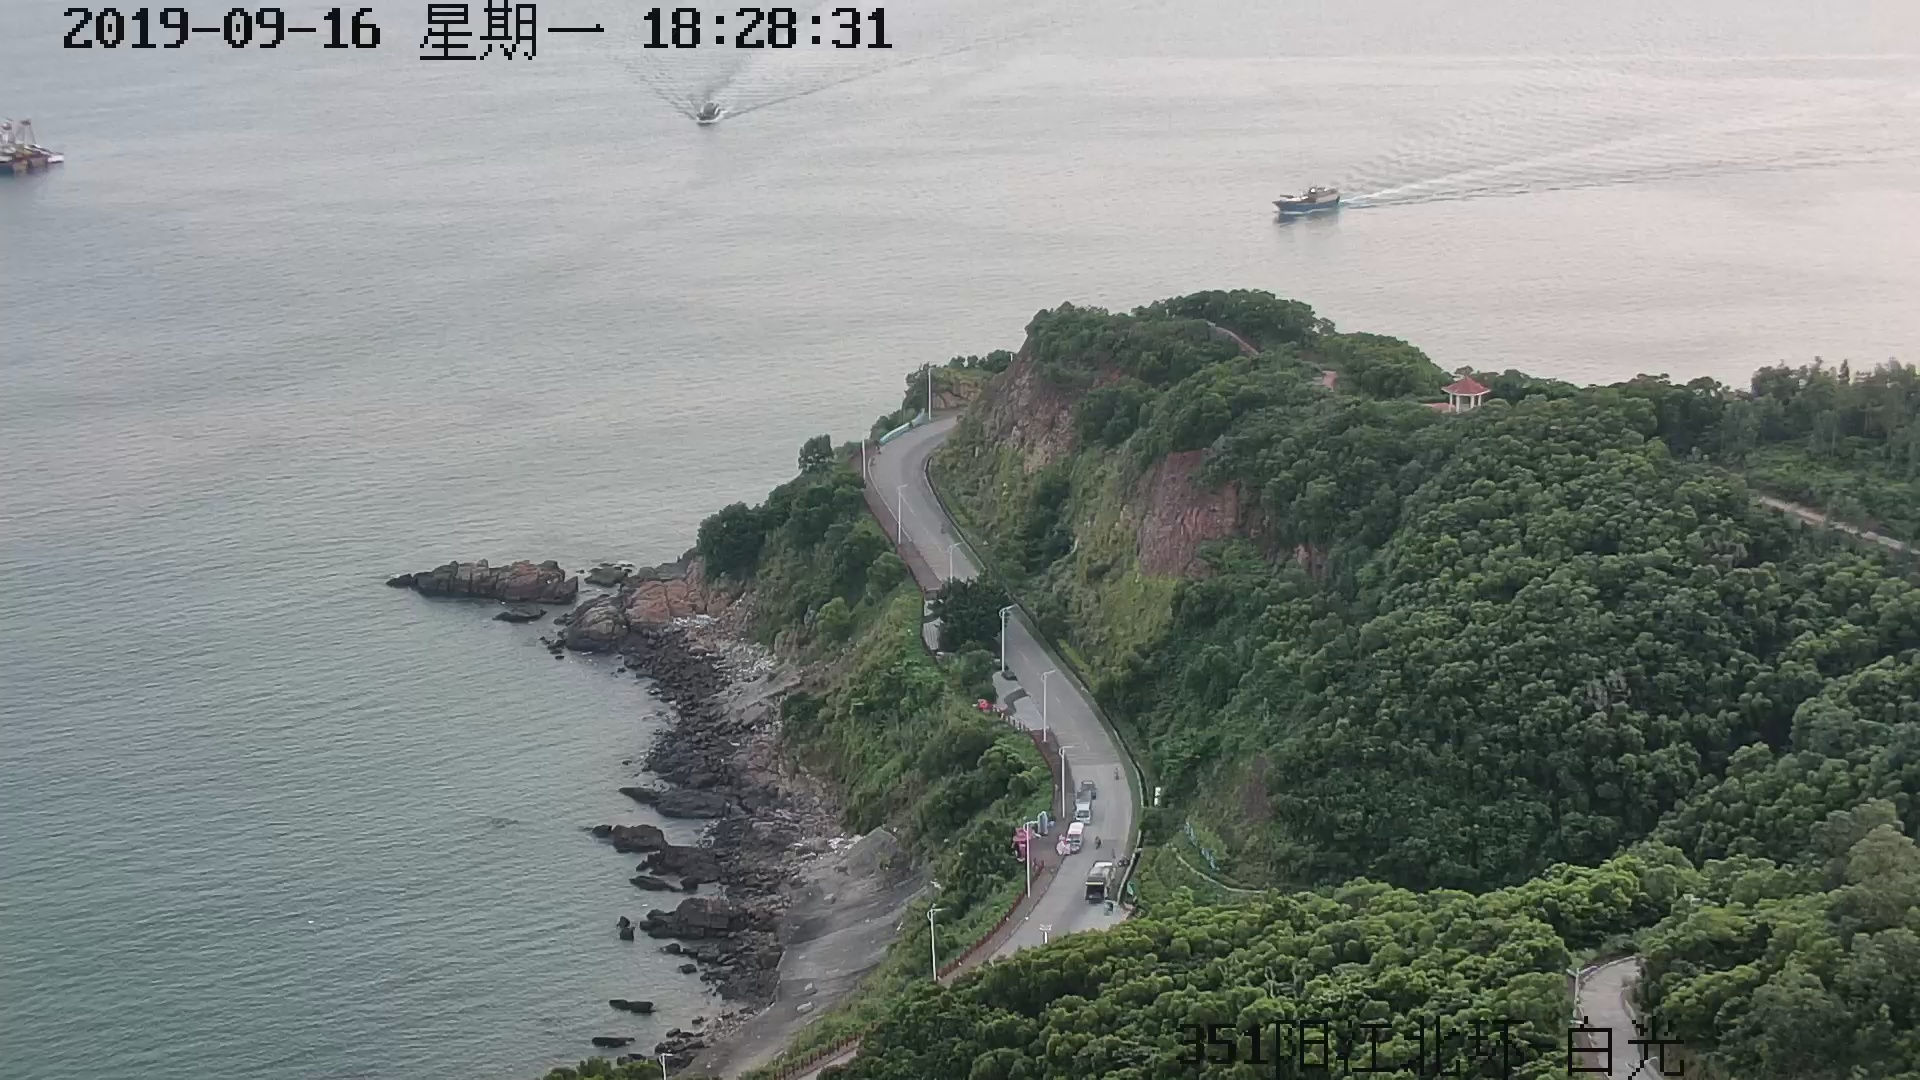ship: (1273, 187, 1341, 218), (680, 92, 727, 129)
